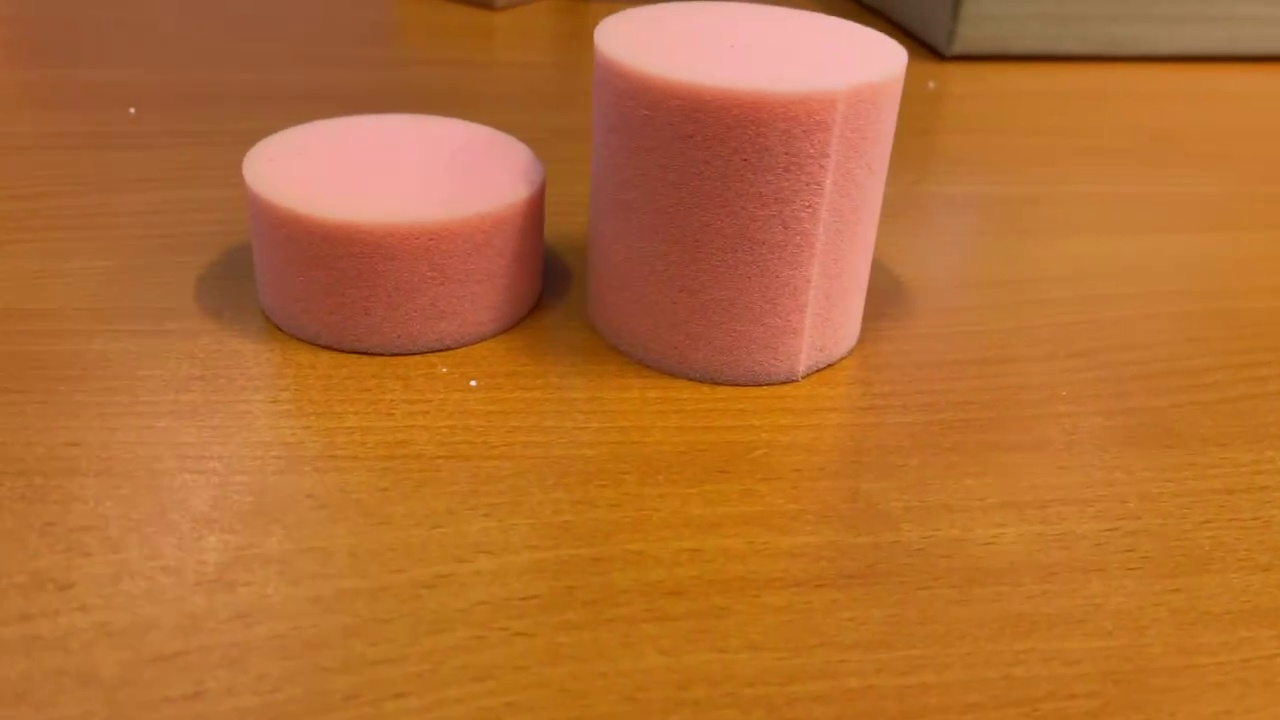Clyinder_short: (234, 108, 554, 364)
Cylinder: (574, 1, 912, 393)
